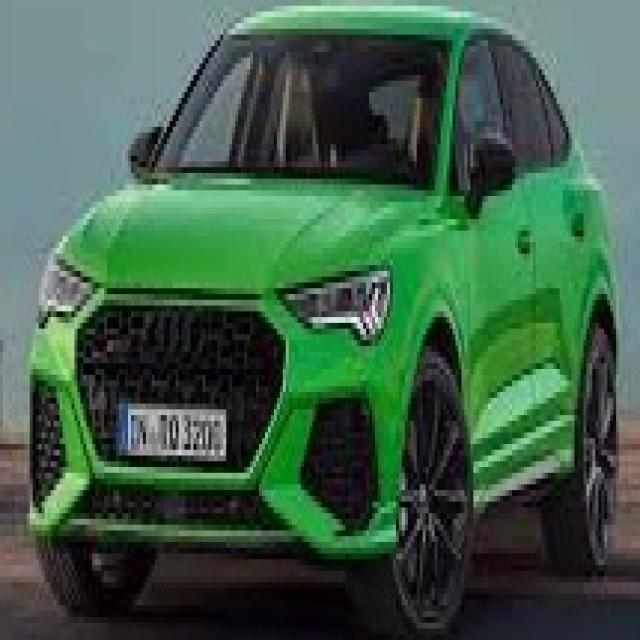green: (33, 10, 640, 640)
